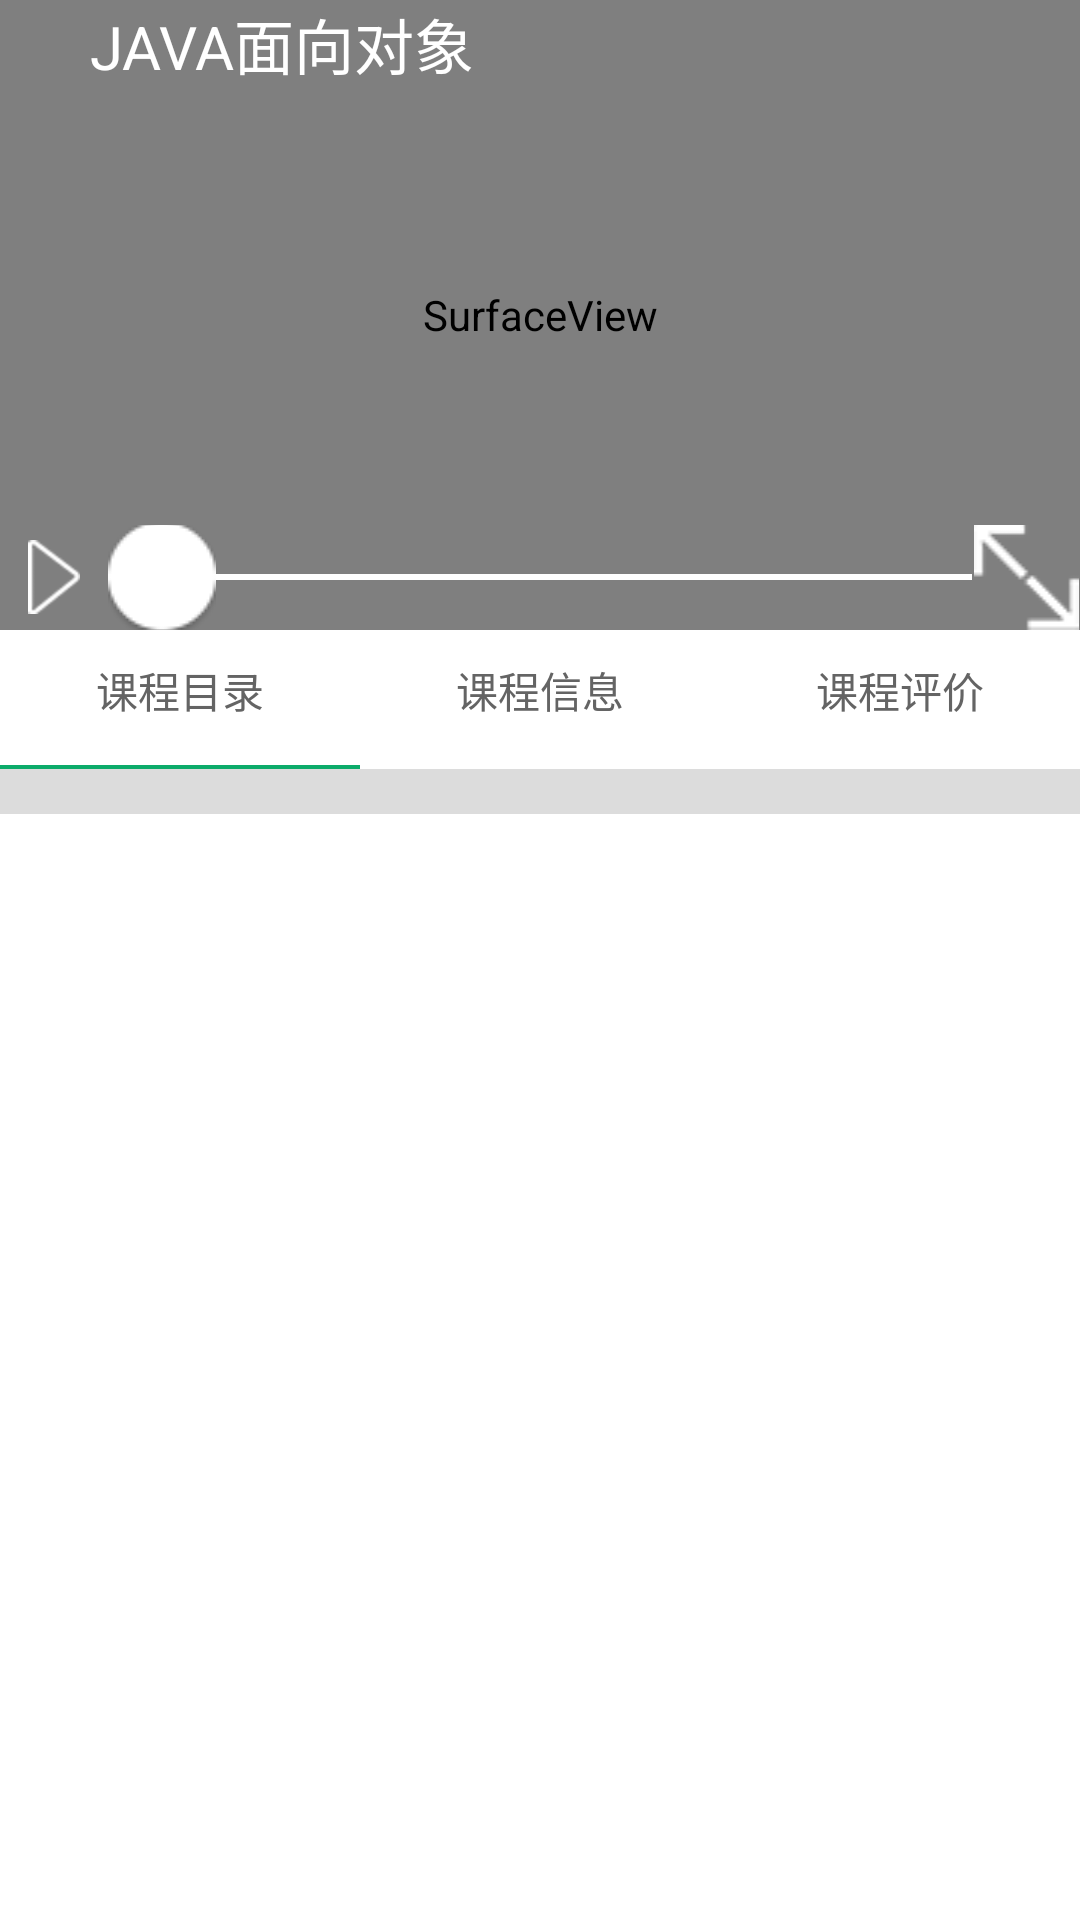

Named icons in this screenshot (1080x1920) and their centers, point (x, y):
player but: point (54, 577)
spread but: point (1026, 577)
